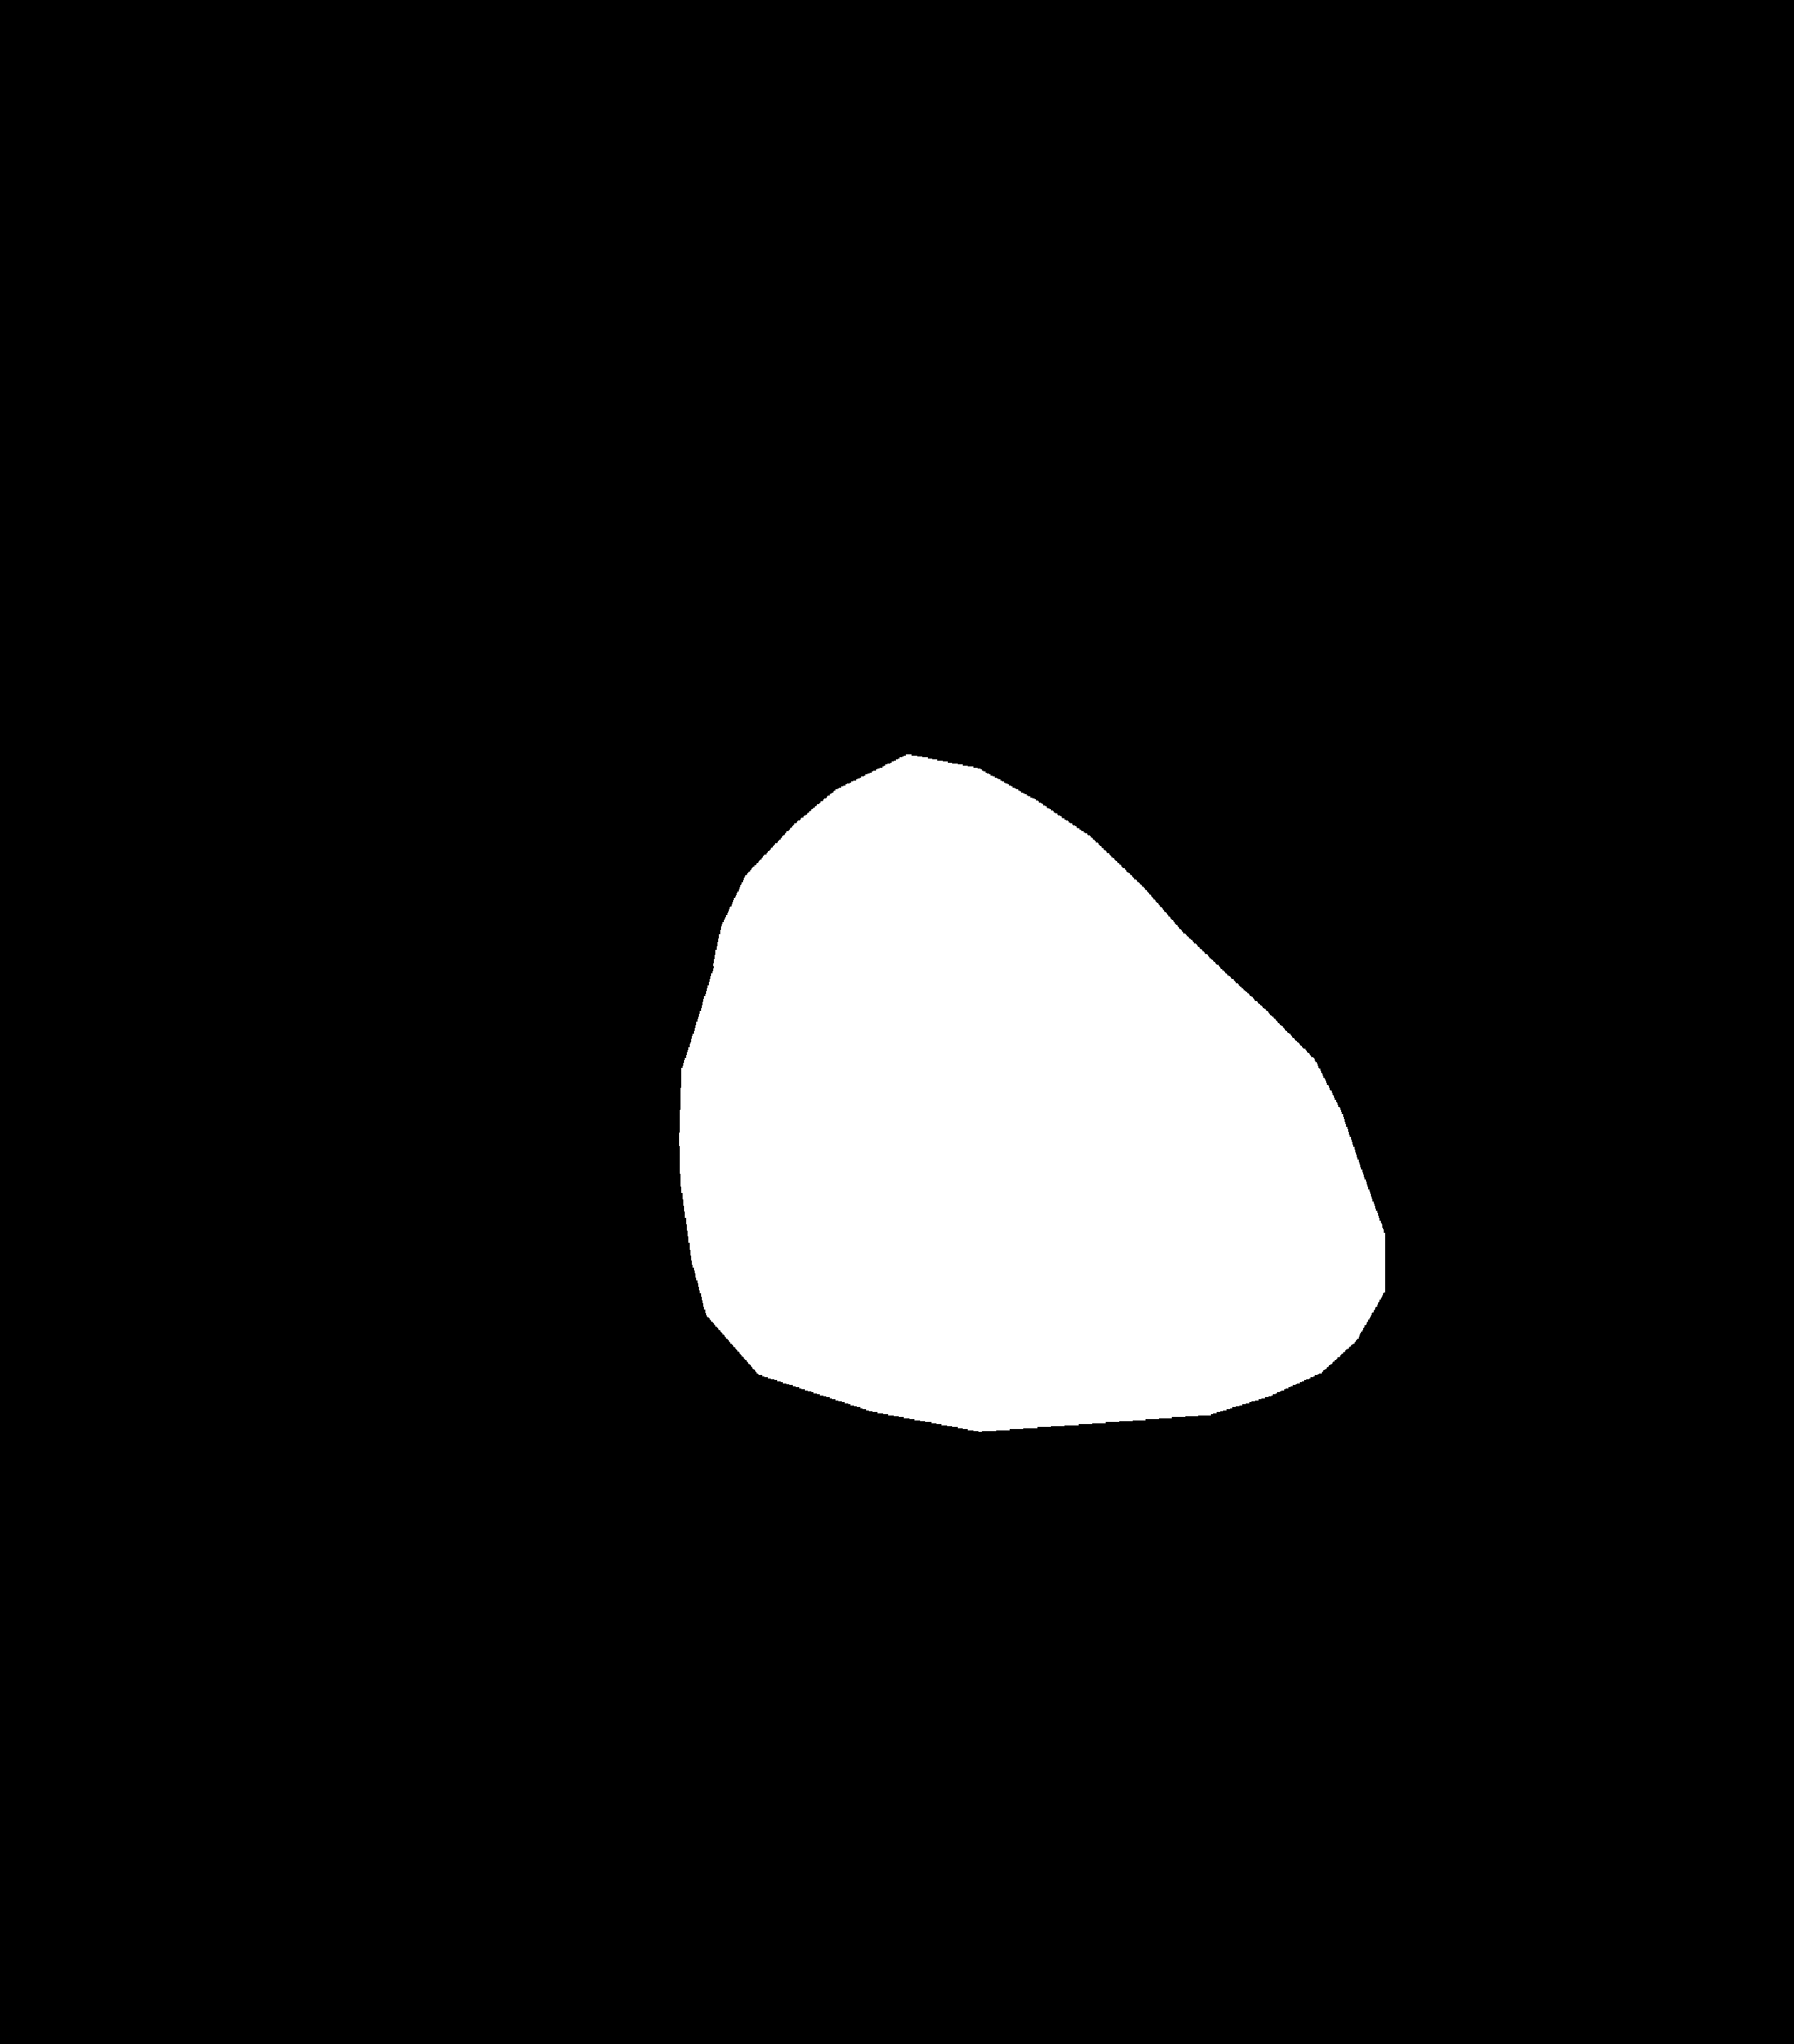heart: (680, 902, 1359, 1413)
left_lung: (273, 221, 829, 1557)
right_lung: (967, 216, 1592, 1566)
